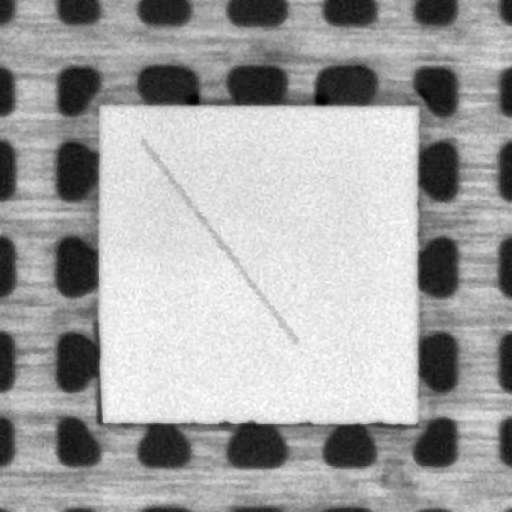DIE_CRACK: (140, 140, 294, 342)
